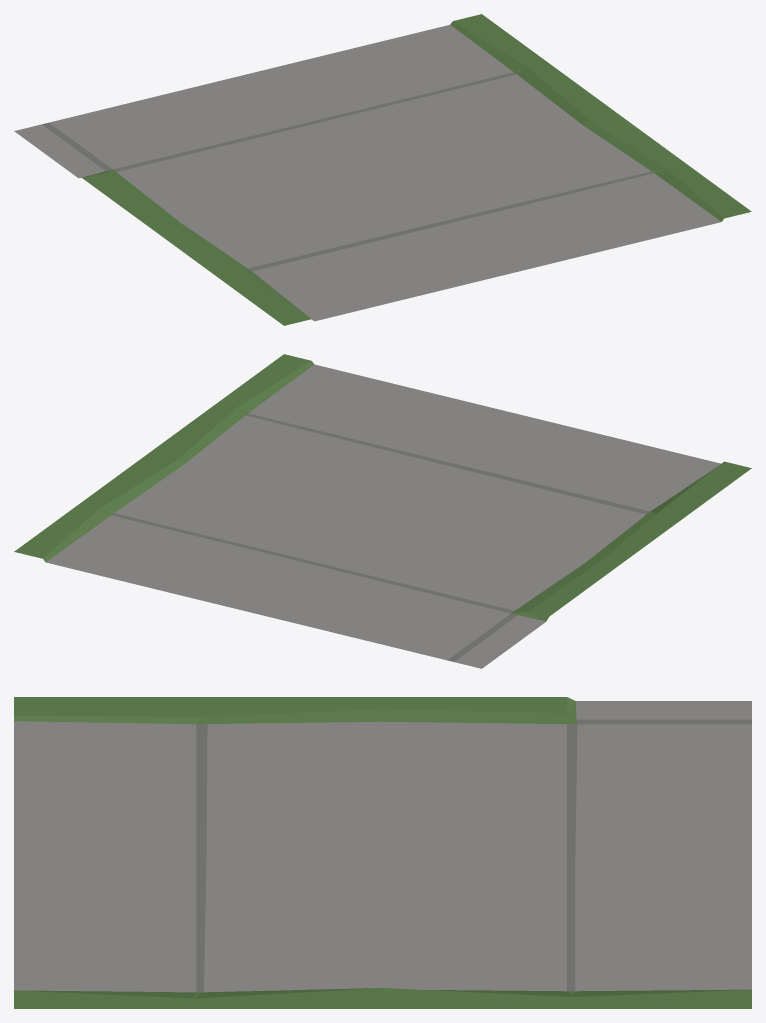
File: SM_Env_Driveway_Wide_PathLeft_01.fbx
The picture shows the model from 3 angles, top to bottom: view 1: azimuth 30°, elevation 25°; view 2: azimuth 150°, elevation 25°; view 3: azimuth 270°, elevation 25°; orthographic projection. The views are drawn at different scales.
Parts seen in each view (by area): view 1: SM_Env_Driveway_Wide_PathLeft_01; view 2: SM_Env_Driveway_Wide_PathLeft_01; view 3: SM_Env_Driveway_Wide_PathLeft_01.
Part boxes in pixels (box(x1,y1,x2,y2)): SM_Env_Driveway_Wide_PathLeft_01: box(14, 14, 751, 325); SM_Env_Driveway_Wide_PathLeft_01: box(14, 354, 751, 668); SM_Env_Driveway_Wide_PathLeft_01: box(14, 697, 751, 1008).
Size of the model in its own units: 500 by 4.07 by 500.
